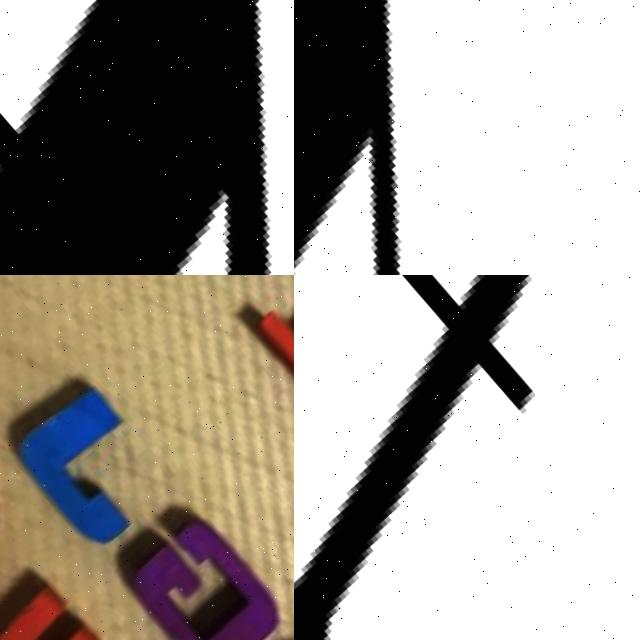F: (294, 275, 538, 640)
G: (116, 504, 294, 640)
I: (243, 275, 294, 425)
J: (9, 377, 179, 549)
W: (0, 576, 153, 640)
